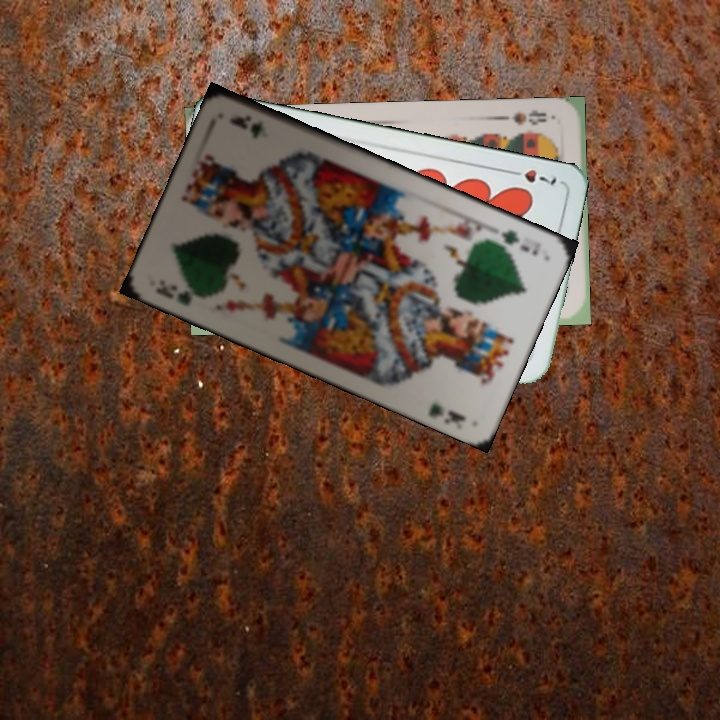GK: (496, 226, 544, 259), (151, 280, 195, 309)
H7: (503, 165, 559, 188)
S8: (500, 105, 549, 128)
